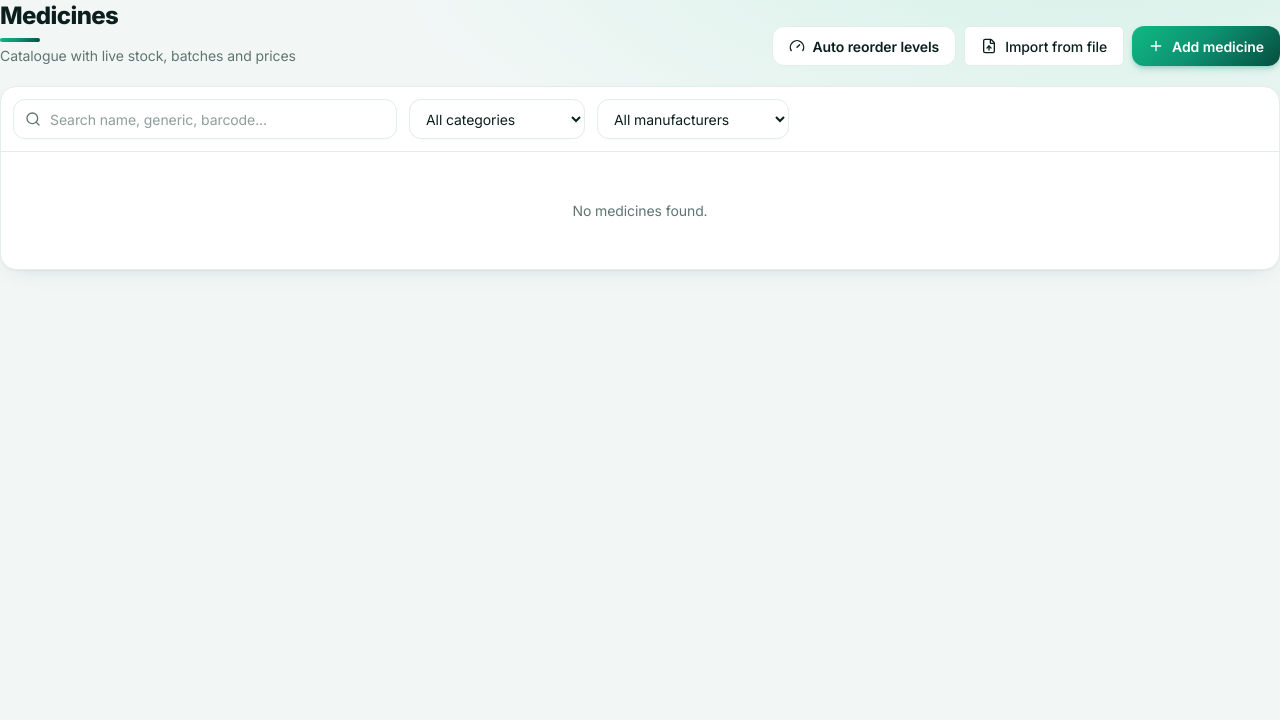
Test: medicine form for staff who cannot see costs › the owner does get the purchase price field
Click the button "Add medicine". click: (1206, 46)
box: [1132,26,1279,66]
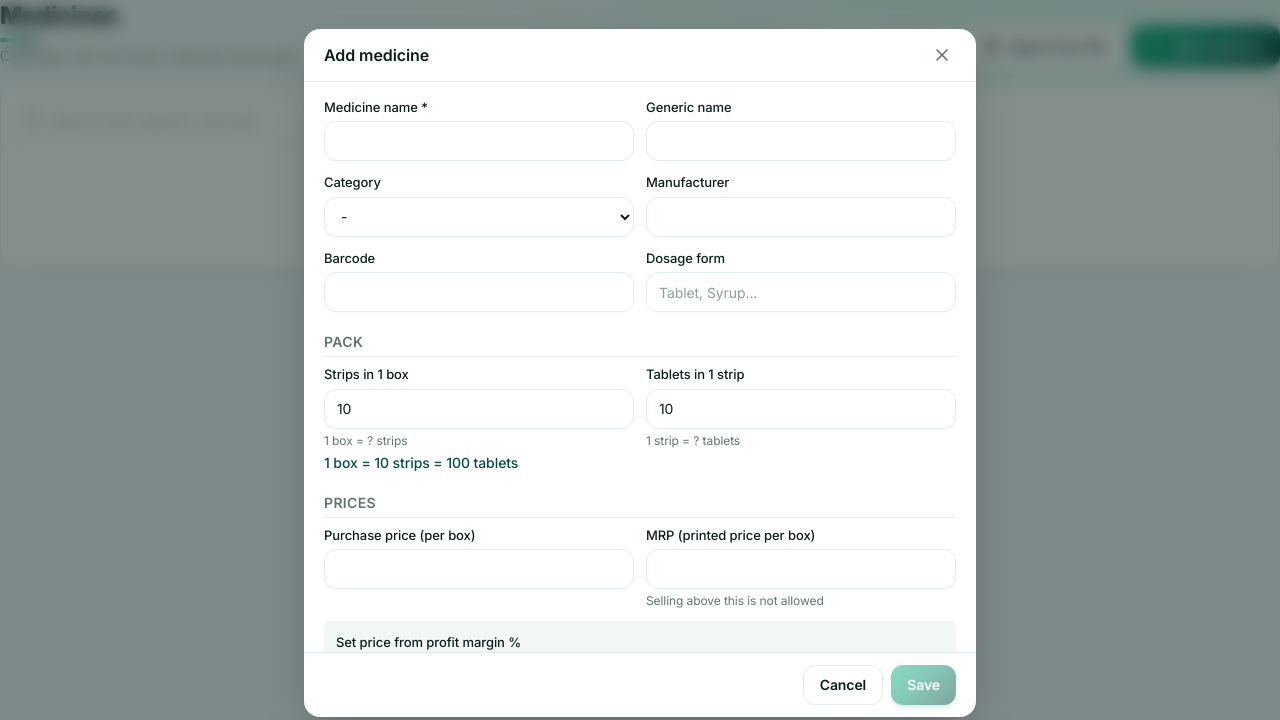
Expected: the text "Purchase price (per box)" is shown, [324,527,476,543]
